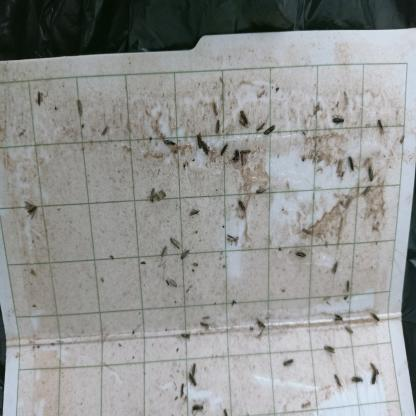prays_oleae: (21, 193, 41, 226), (144, 182, 166, 209), (280, 349, 303, 374), (326, 111, 348, 133), (173, 324, 193, 346), (232, 107, 252, 128), (202, 135, 216, 162), (210, 120, 227, 141), (260, 122, 281, 139), (164, 272, 180, 294), (333, 366, 344, 396), (193, 122, 204, 152), (364, 165, 378, 188), (252, 312, 268, 332), (184, 371, 200, 391), (344, 152, 356, 176), (188, 200, 202, 220), (170, 233, 182, 256), (324, 340, 337, 360), (331, 307, 344, 327), (326, 262, 342, 278), (162, 136, 180, 150), (293, 247, 312, 260), (33, 89, 44, 111), (155, 242, 168, 260), (221, 234, 242, 245), (256, 182, 268, 201), (189, 398, 204, 413), (210, 97, 221, 117), (254, 120, 268, 135), (368, 358, 382, 373), (237, 197, 247, 218), (369, 370, 377, 395), (350, 370, 364, 384), (187, 359, 199, 375), (370, 306, 380, 325), (343, 276, 353, 294), (342, 322, 354, 336), (375, 118, 385, 134), (180, 247, 191, 261), (219, 146, 230, 158)
